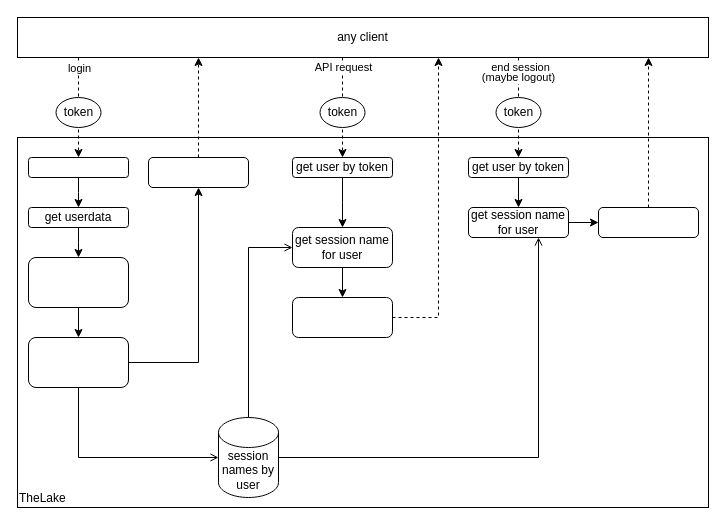
Some shapes in this 726 by 525 pixel diagram are drawn without their labels. The shapes that lost their labels are listed below. From the top down, each one's box as (x1, y1, x2, y2) in pixels, then its label:
(28, 156, 128, 178): check credentials
(148, 156, 248, 188): return userdata and authtoken
(598, 206, 698, 238): end spark session
(28, 256, 128, 308): get or create sparksession for user
(292, 296, 392, 338): perform actions
(28, 336, 128, 388): save session name for user
